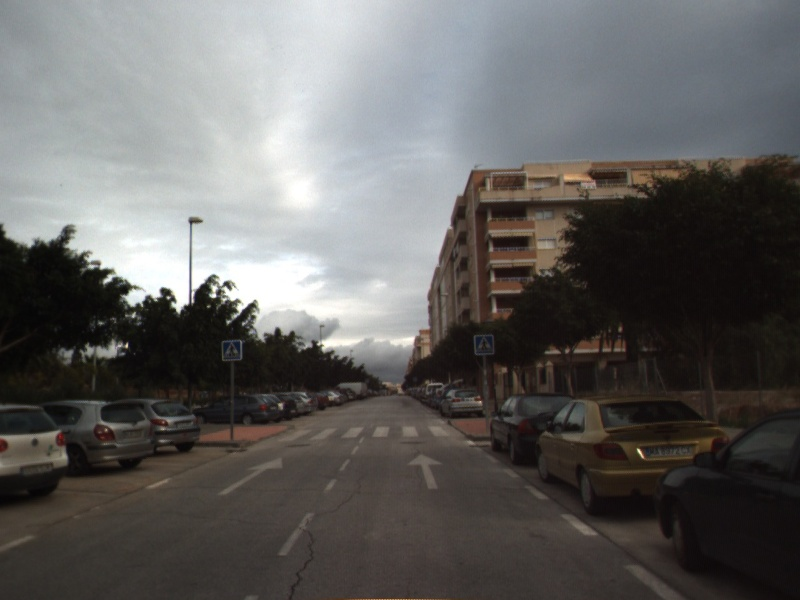STRAIGHT: (215, 455, 284, 497), (405, 452, 444, 491)
